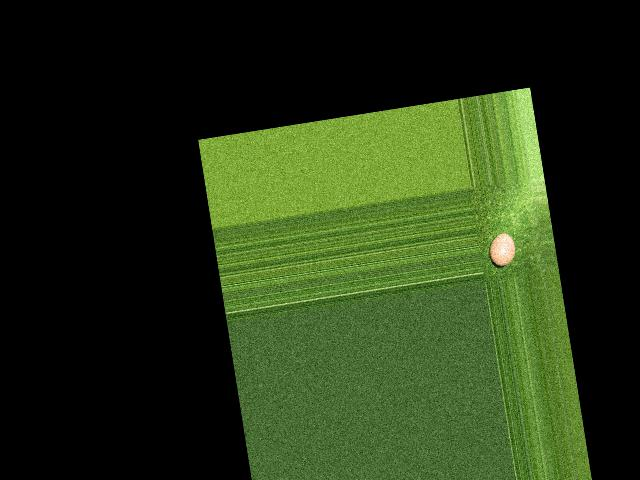egg: (486, 231, 517, 267)
